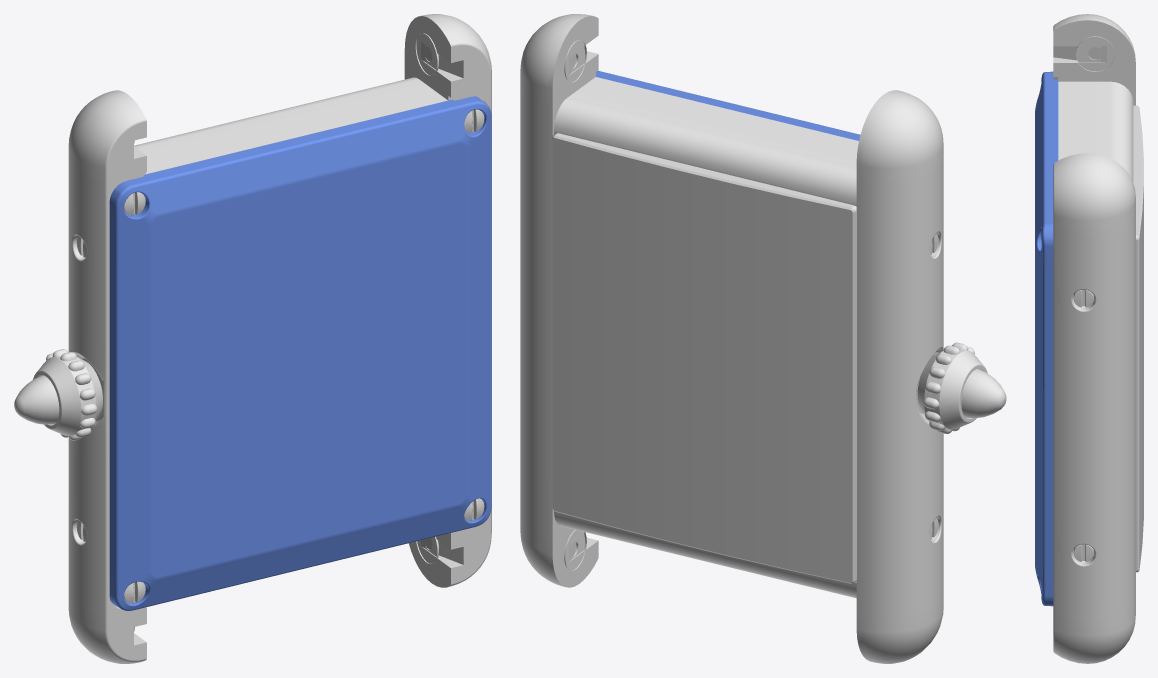
Rendered from Tank_L_Watch.fbx.
3 renders of one model, left to right at view 1: azimuth 30°, elevation 25°; view 2: azimuth 150°, elevation 25°; view 3: azimuth 270°, elevation 25°, orthographic. The views are drawn at different scales.
Visible parts, largest first — view 1: BRep_1.002, BRep_1.003, BRep_1.016; view 2: Glass, BRep_1.003, BRep_1.002, BRep_1.016; view 3: BRep_1.003, BRep_1.002, Glass.
Boxes of the visible parts, x1,y1,x2,y2 form: BRep_1.002: (109,96,491,610); BRep_1.003: (33,14,491,663); BRep_1.016: (14,375,59,424); Glass: (551,133,856,583); BRep_1.003: (520,14,987,663); BRep_1.002: (596,70,860,140); BRep_1.016: (961,368,1006,418); BRep_1.003: (1041,14,1135,663); BRep_1.002: (1035,71,1058,606); Glass: (1133,105,1143,572).
Bounding box in the file's own units: 296 × 337 × 65.89.
